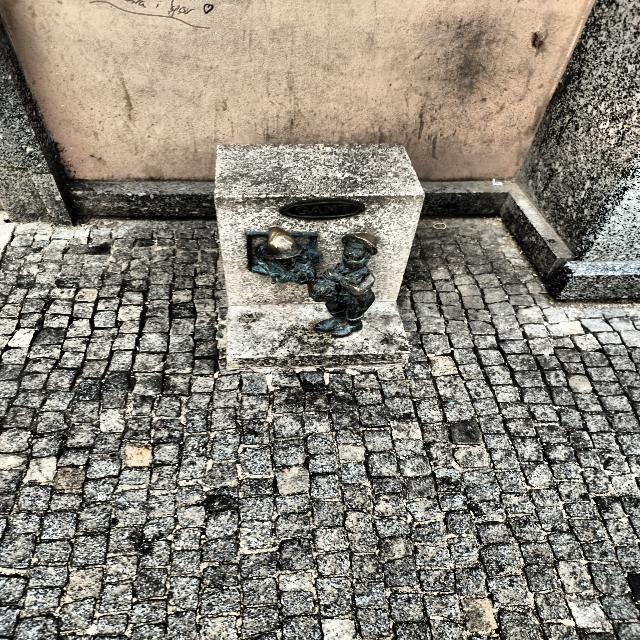Kantorki: (247, 226, 378, 338)
